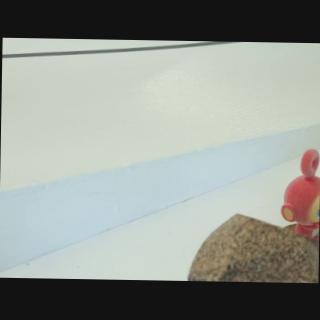teletubby: (281, 149, 319, 238)
